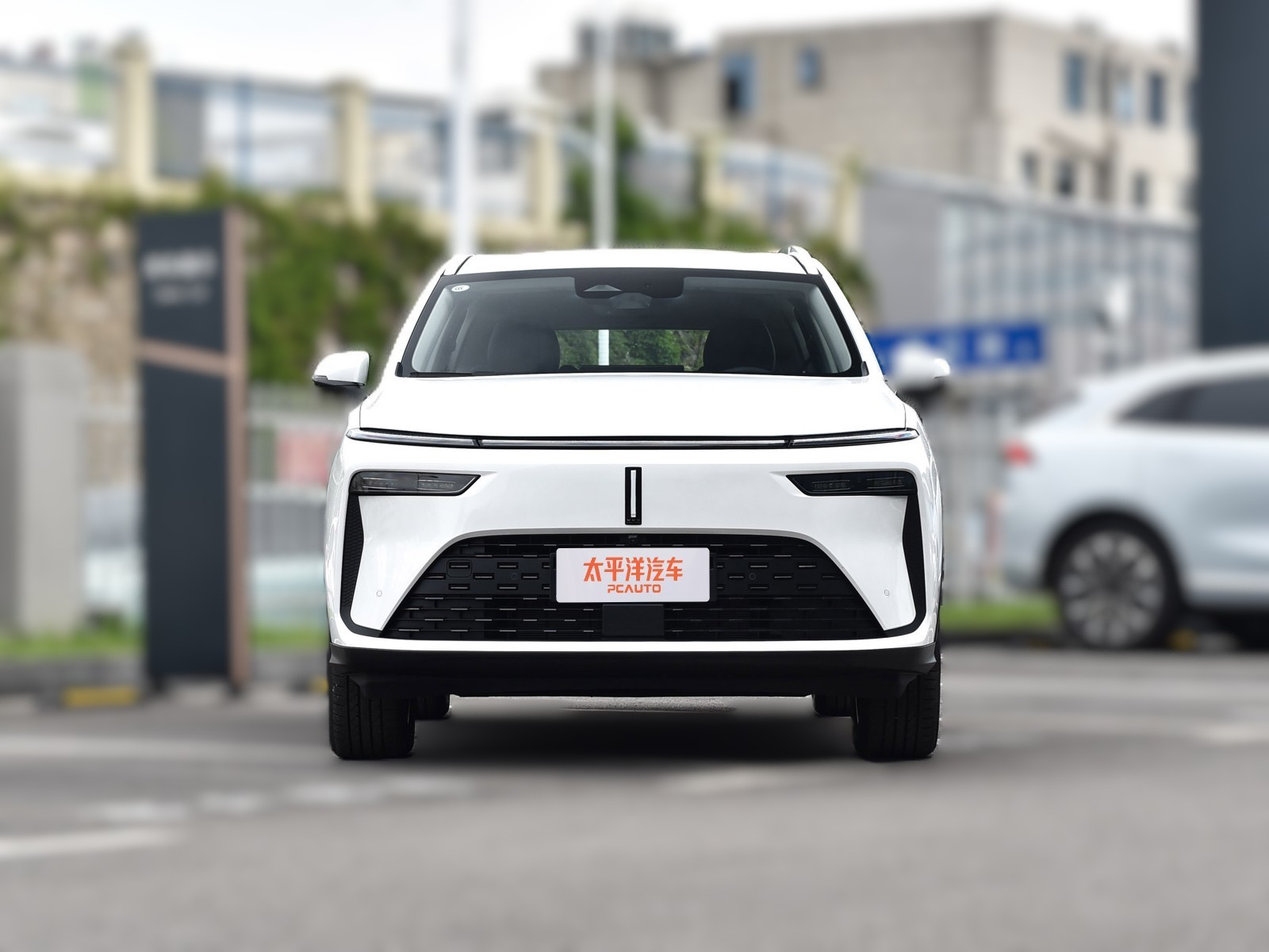WEY: (625, 467, 642, 525)
